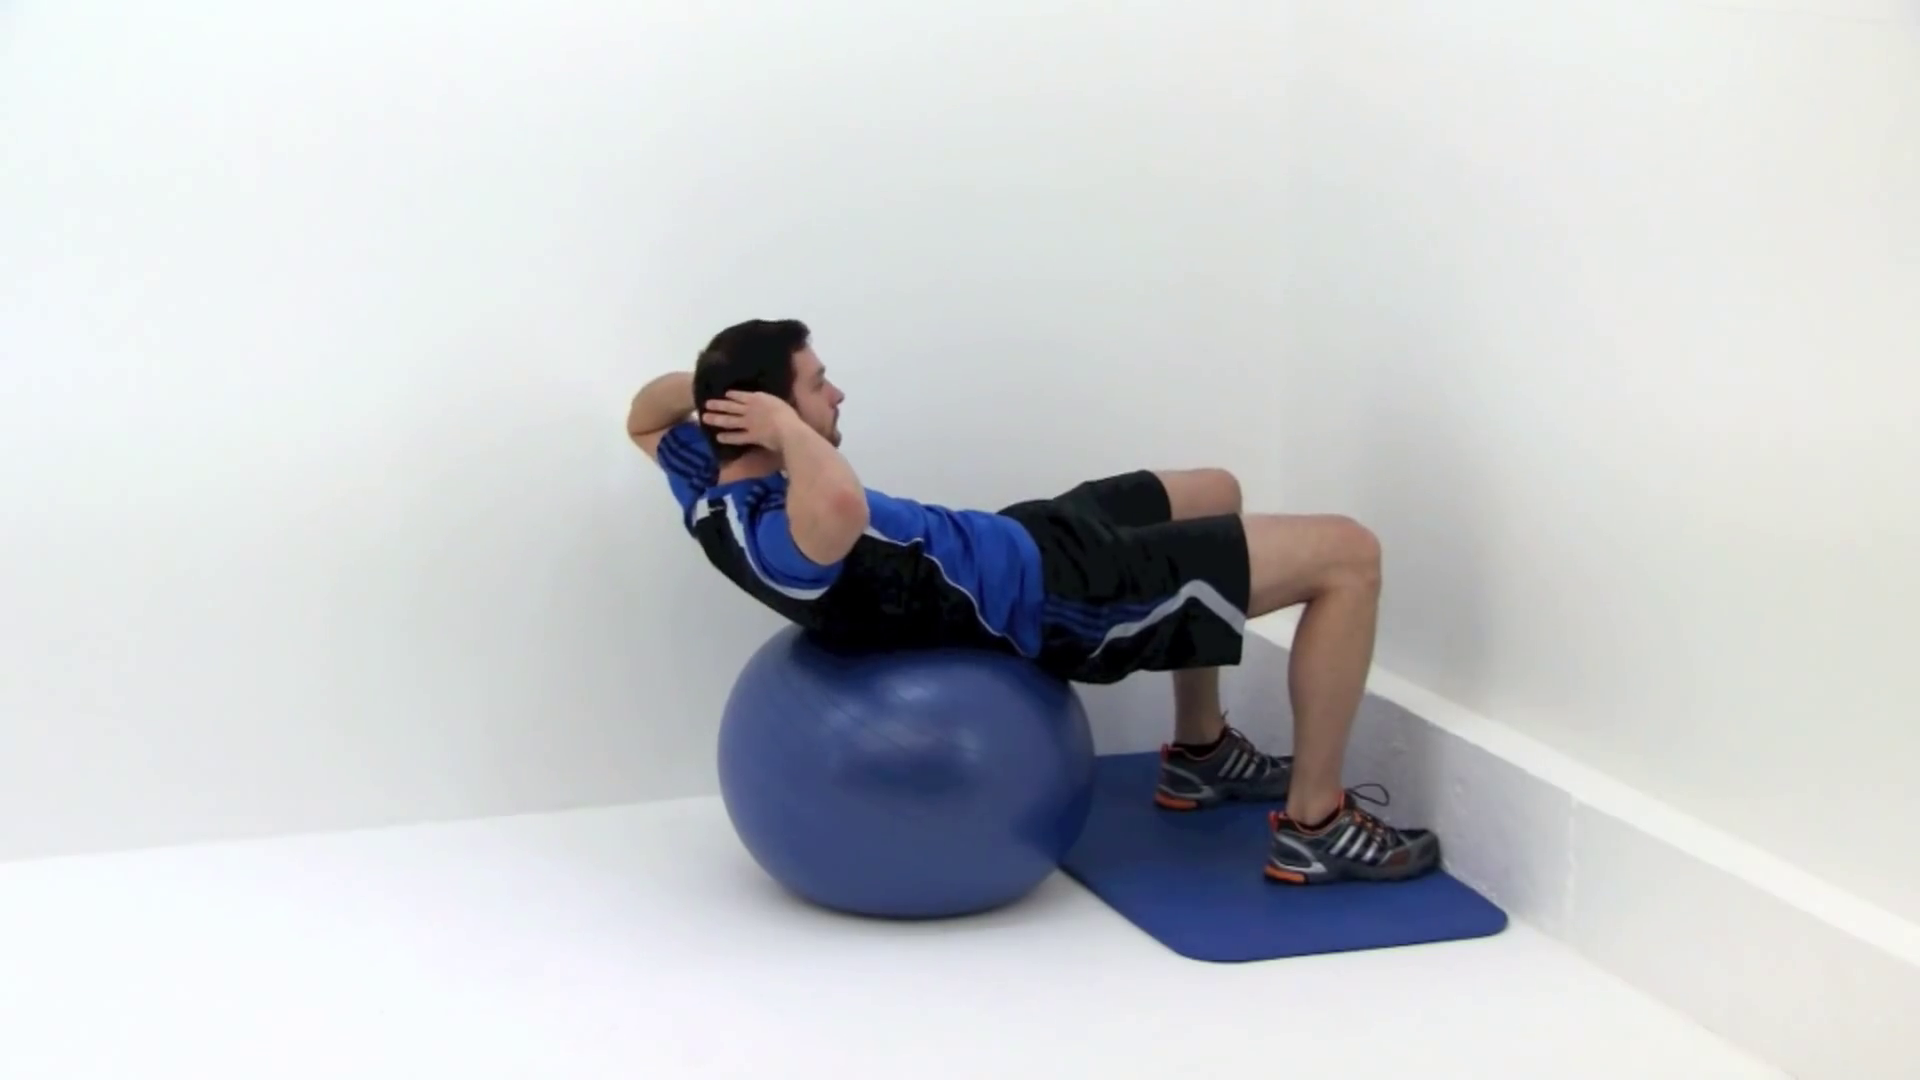yogaball: (700, 616, 1116, 930)
